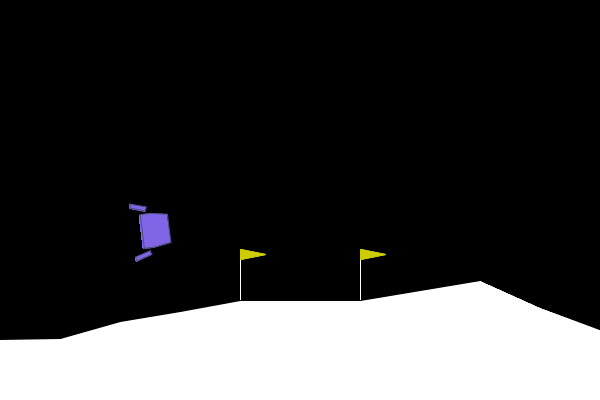lander: (127, 199, 174, 263)
